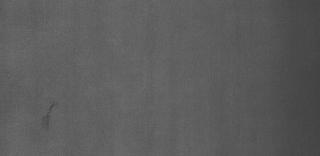water spot: (34, 92, 64, 132)
